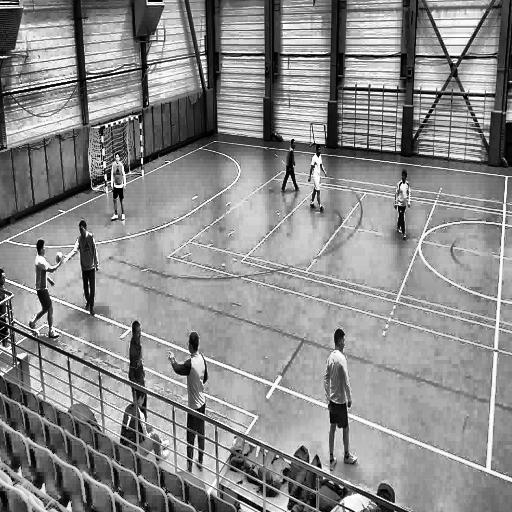ball: (56, 250, 64, 264)
player: (167, 329, 212, 473), (324, 327, 359, 468), (27, 237, 64, 339), (64, 220, 99, 318), (128, 318, 148, 418), (307, 144, 328, 214), (110, 151, 129, 224), (393, 169, 412, 242), (280, 138, 301, 195)
